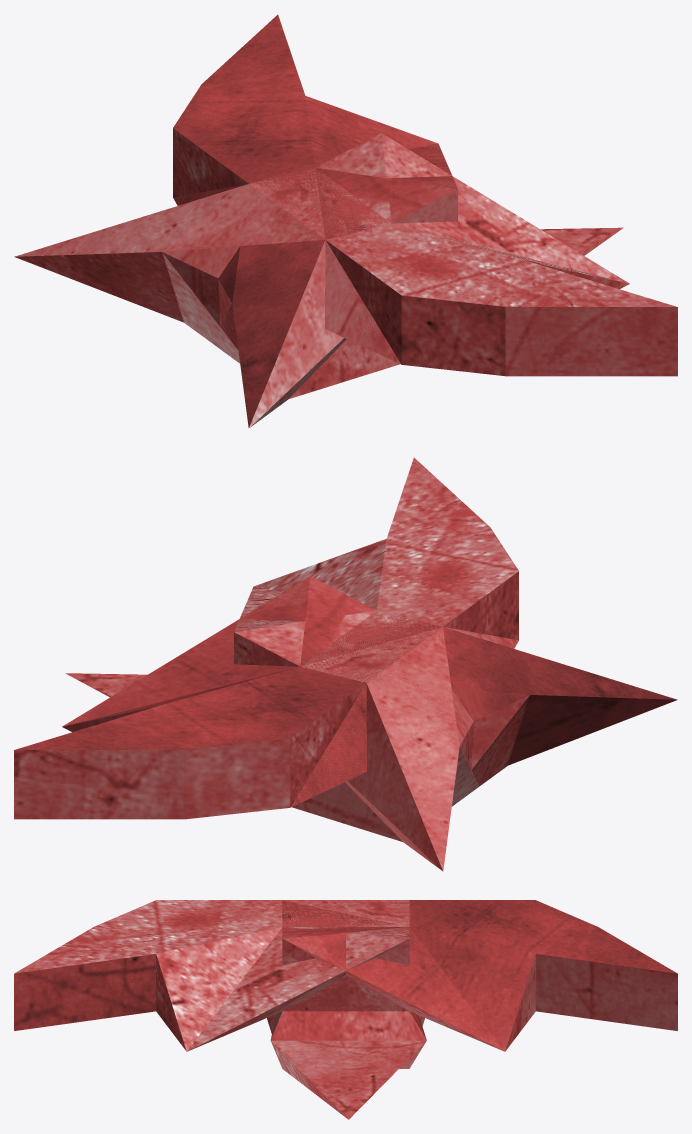
File: redshipo2.fbx
The picture shows the model from 3 angles, top to bottom: view 1: azimuth 30°, elevation 25°; view 2: azimuth 150°, elevation 25°; view 3: azimuth 270°, elevation 25°; orthographic projection. The views are drawn at different scales.
Visible parts, largest first — view 1: Cube; view 2: Cube; view 3: Cube.
Part boxes in pixels (left/top/right/bottom): Cube: left=14, top=14, right=677, bottom=428; Cube: left=14, top=457, right=677, bottom=871; Cube: left=14, top=900, right=677, bottom=1119.
Bounding box in the file's own units: 7.46 × 2.27 × 10.46.
